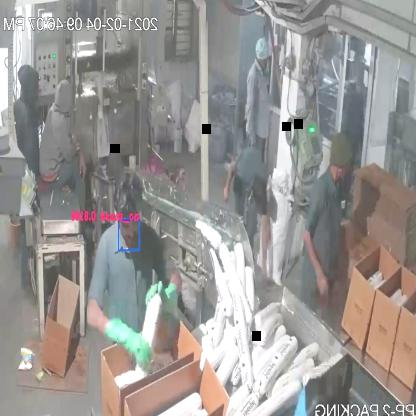glove: (96, 312, 158, 377), (138, 276, 189, 312)
no_glove: (301, 220, 340, 298), (240, 69, 260, 151), (257, 199, 273, 286), (214, 156, 236, 208), (71, 134, 87, 187)
